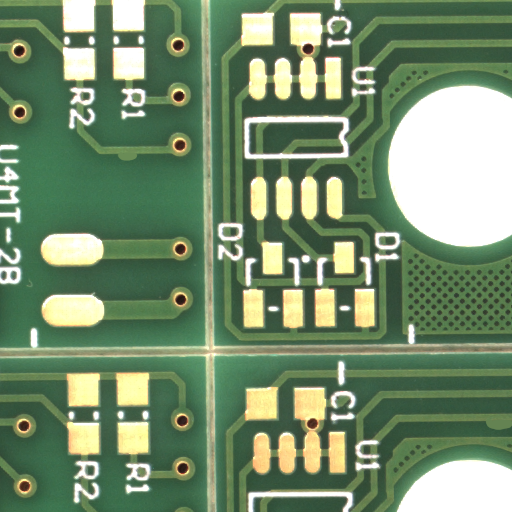Spur: (126, 156, 155, 167), (497, 424, 512, 435)
